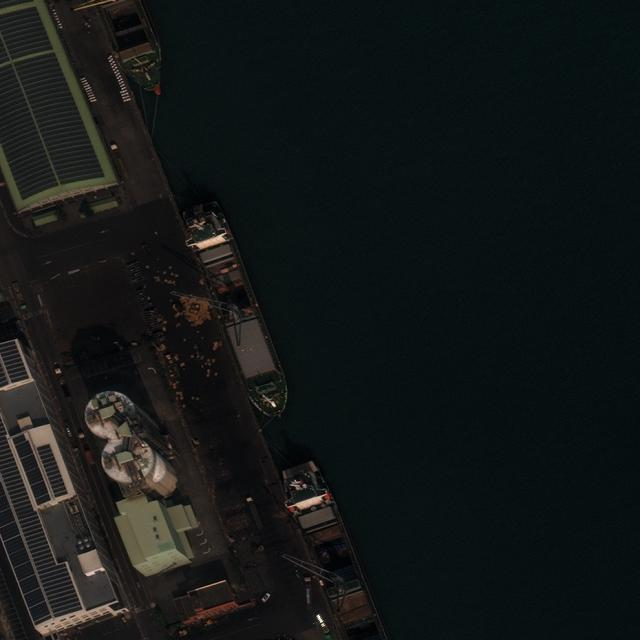Container Ship: (179, 198, 296, 424), (270, 460, 389, 640), (103, 4, 165, 96)
